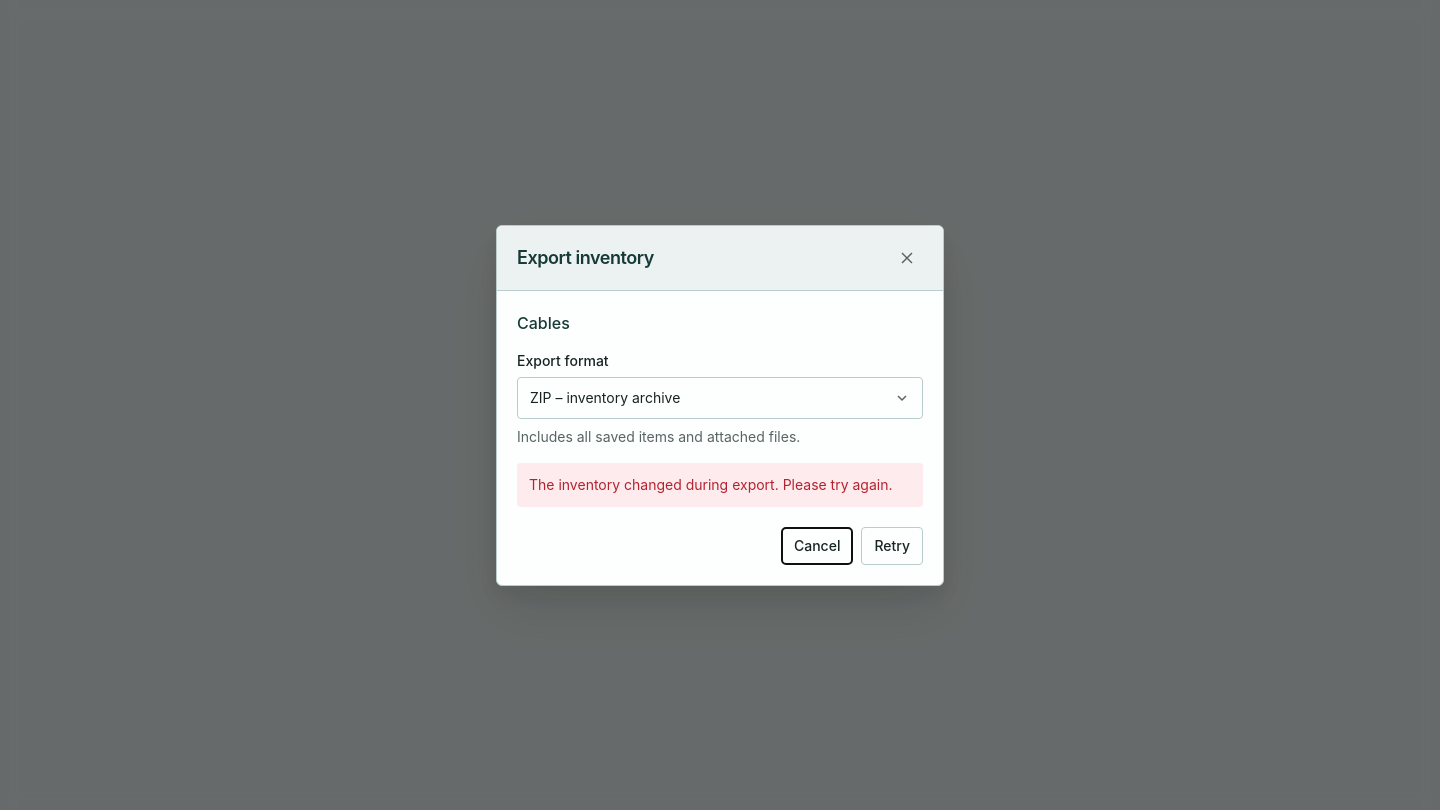
Test: explains source changes and allows an explicit retry
This screenshot has width=1440, height=810.
Check: the message shows "changed during export", box x1=529 y1=476 x2=892 y2=492
Click the button "Retry" at (892,546), box x1=861 y1=526 x2=923 y2=564
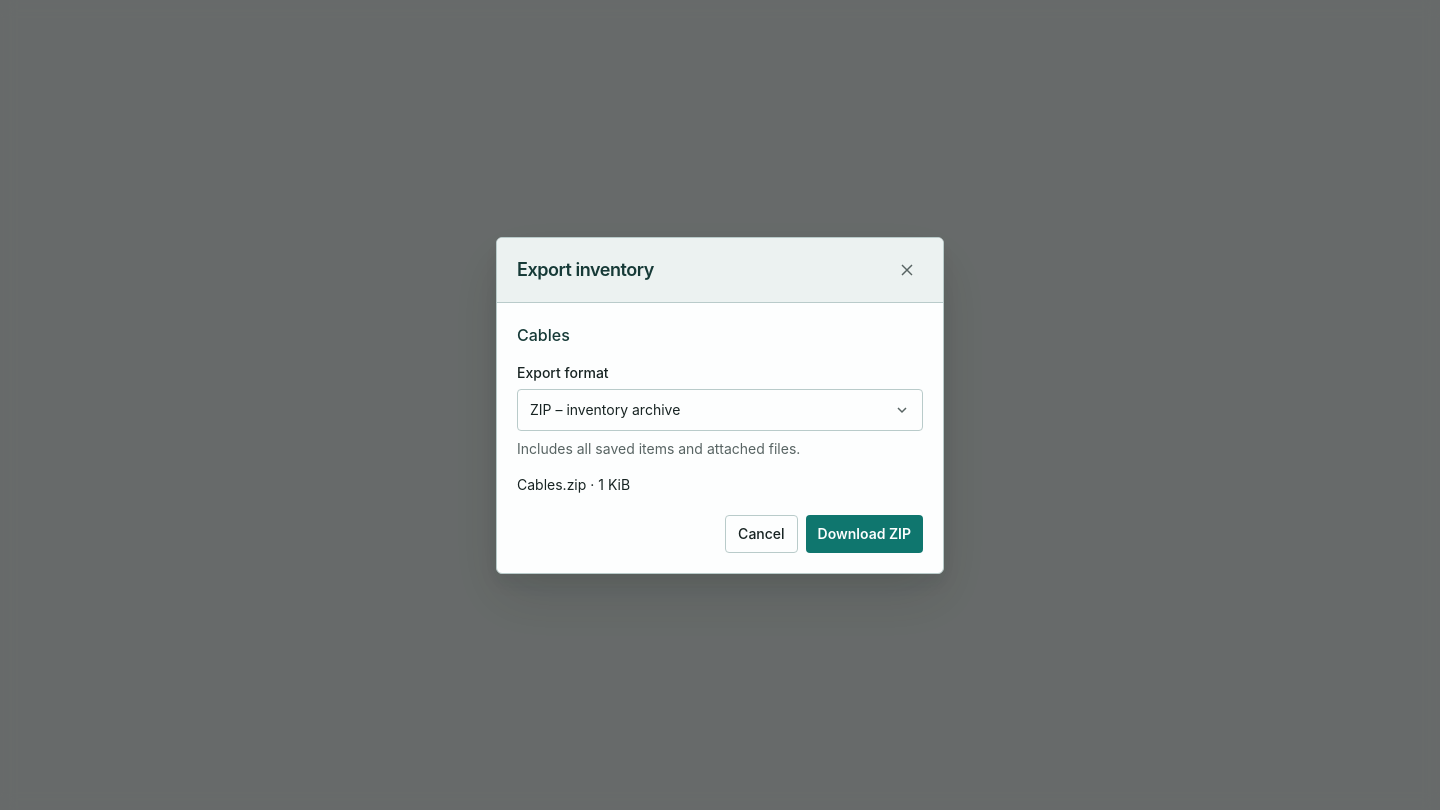
Check: the button "Download ZIP" is shown, box x1=806 y1=514 x2=923 y2=552
